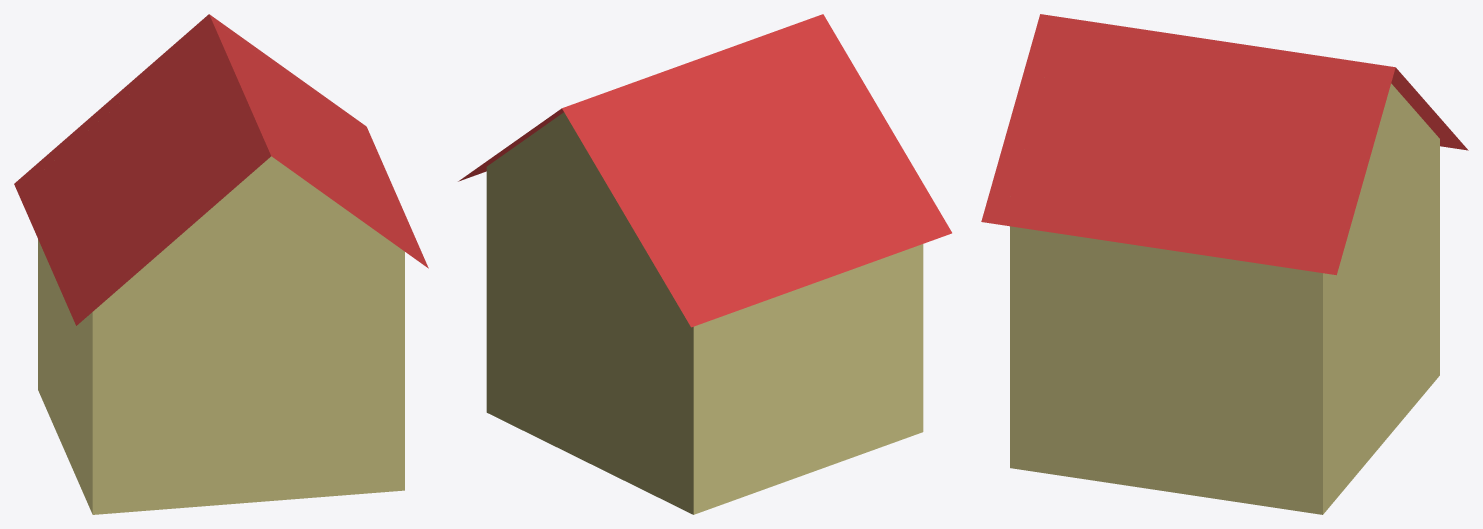
3 renders of one model, left to right at view 1: azimuth 30°, elevation 25°; view 2: azimuth 150°, elevation 25°; view 3: azimuth 270°, elevation 25°, orthographic. The views are drawn at different scales.
Size of the model in its own units: 11.02 by 10.78 by 9.5.
